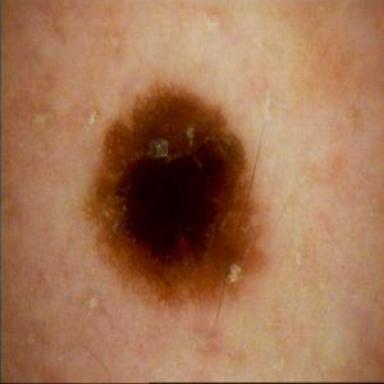Melanoma: (86, 84, 262, 307)
